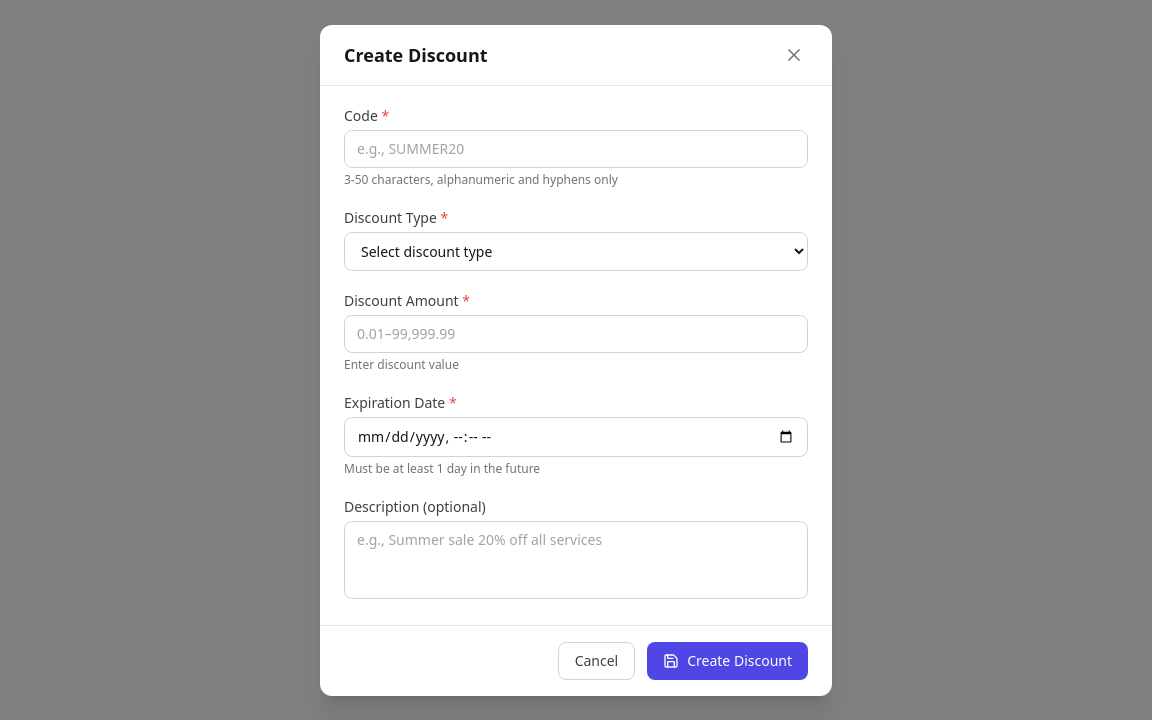
Test: CreateDiscountForm › Client-side Validation › should show error when code is too short
Type "AB" into the field labelled "Code *". click: (576, 148)
box: [344,130,808,168]
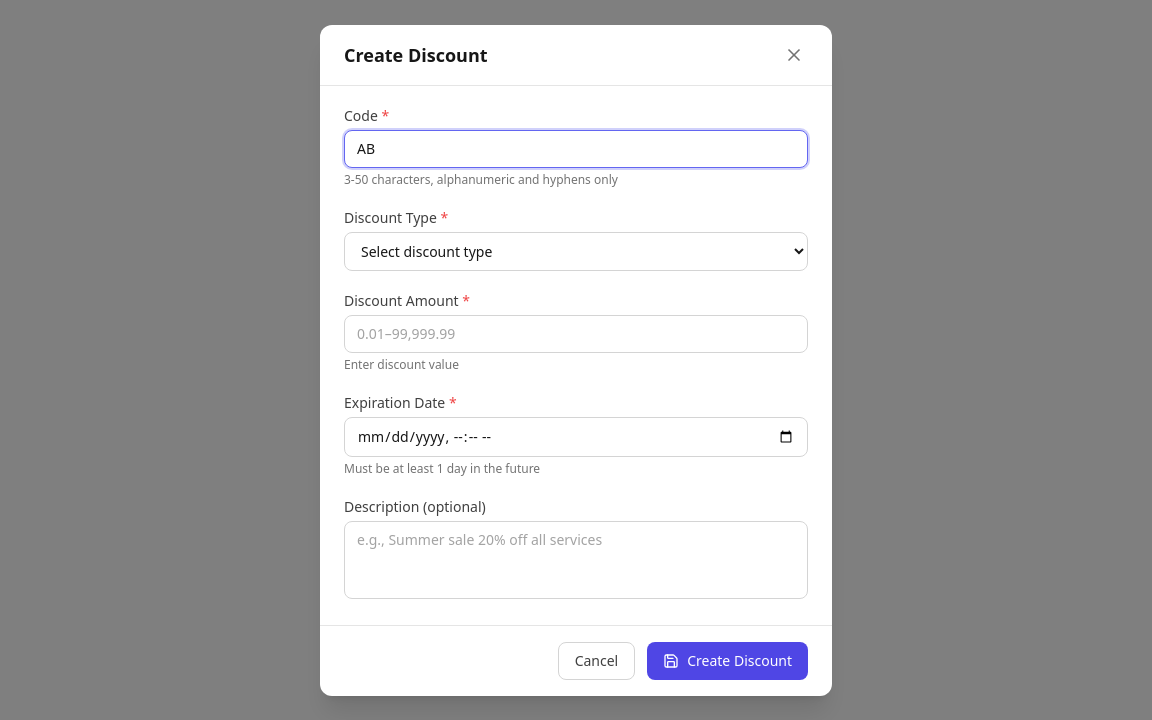
Press Tab
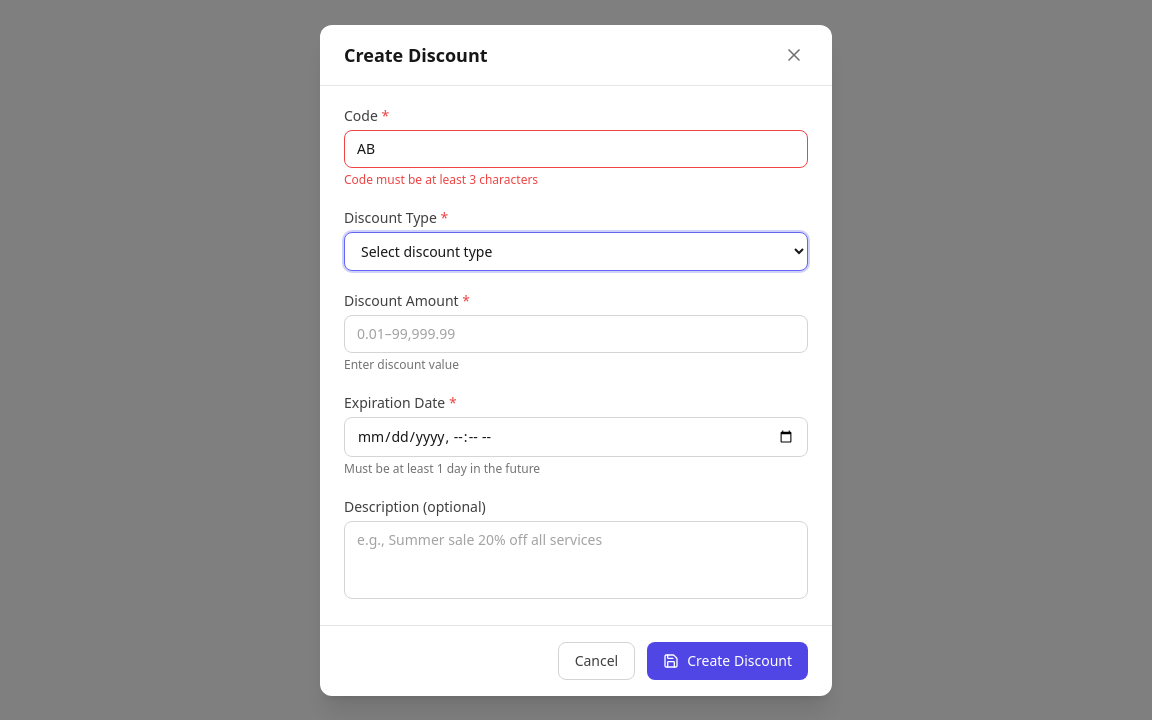
Now the text "Code must be at least 3 characters" is shown, box [344,170,538,188]
